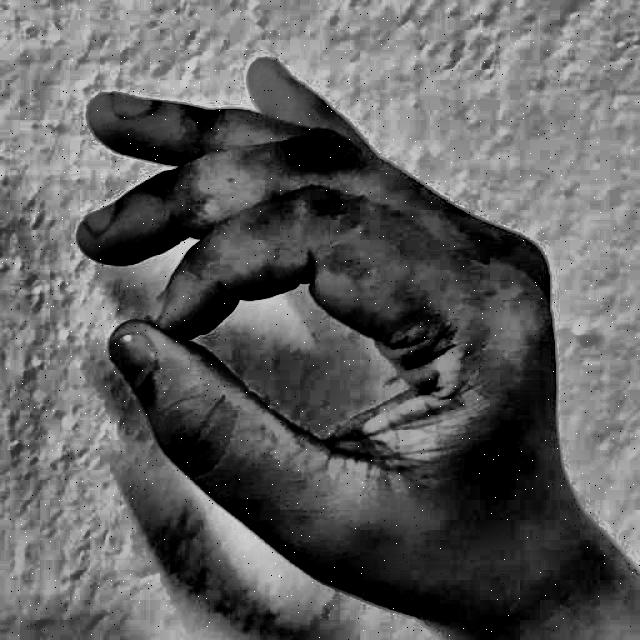Yo: (45, 29, 596, 629)
